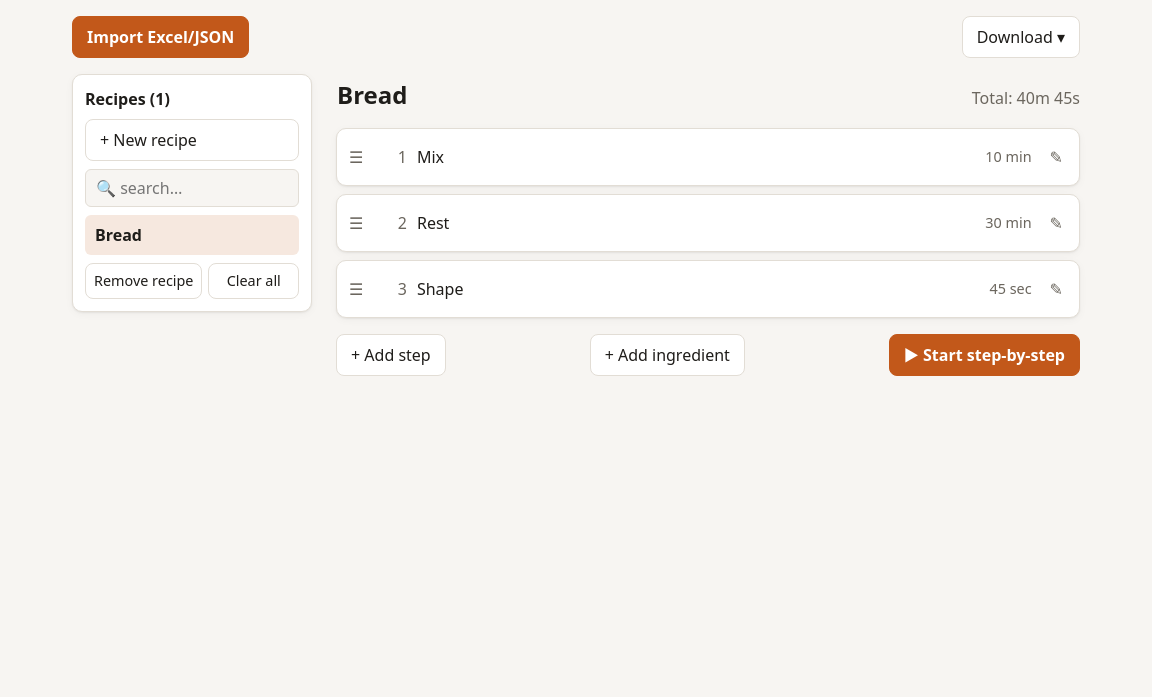
Test: unparseable duration hint
Earlier steps of the test are not shown.
Click the button named "Edit step 1".
click(1056, 157)  # box [1042, 139, 1071, 175]
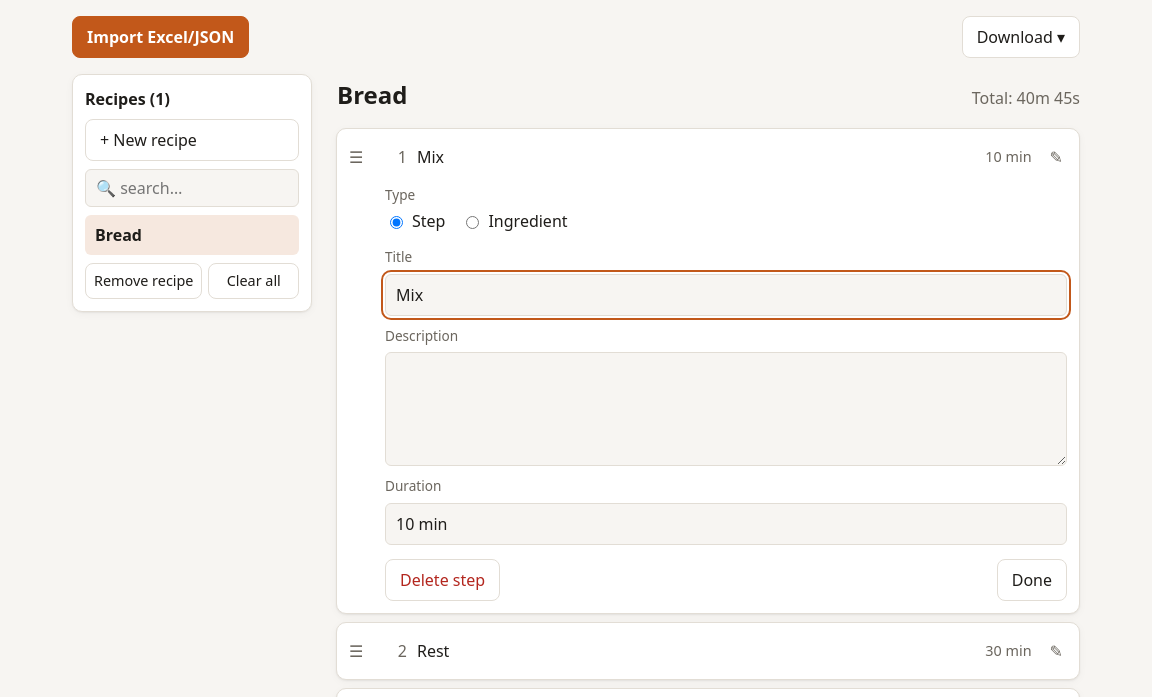
Replace the text in the field labelled "Duration" with "5-10 min" at coordinates (726, 524), box [385, 503, 1067, 545]
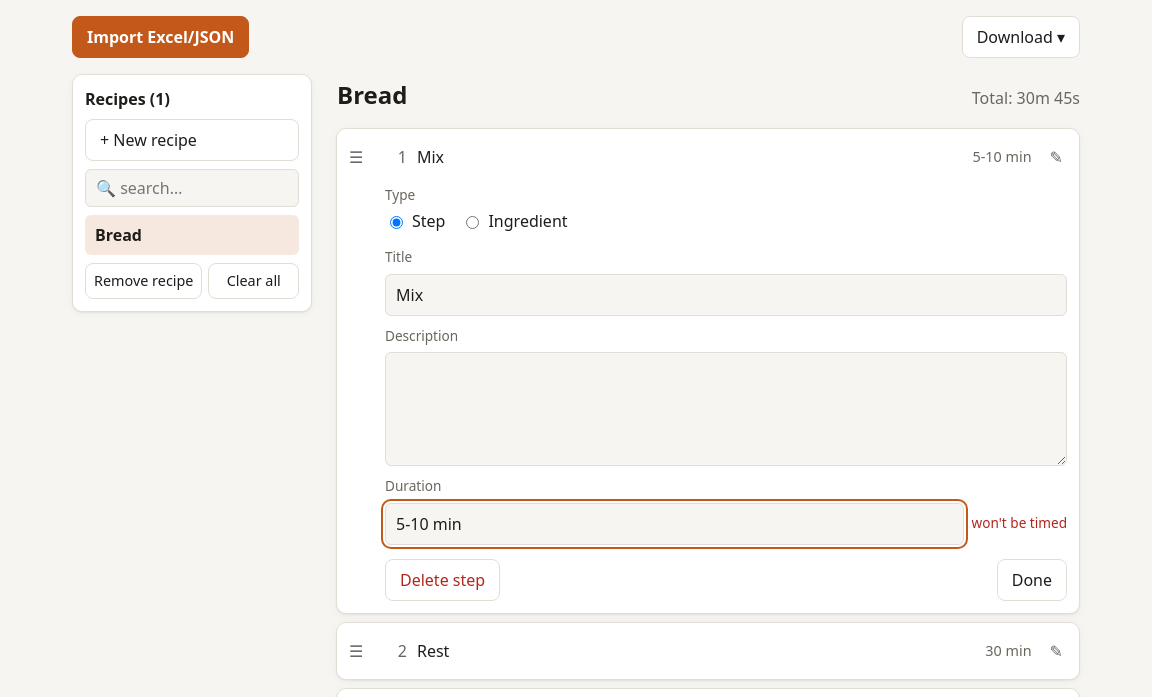
Expected: the text "won't be timed" is shown, [972, 513, 1067, 534]
